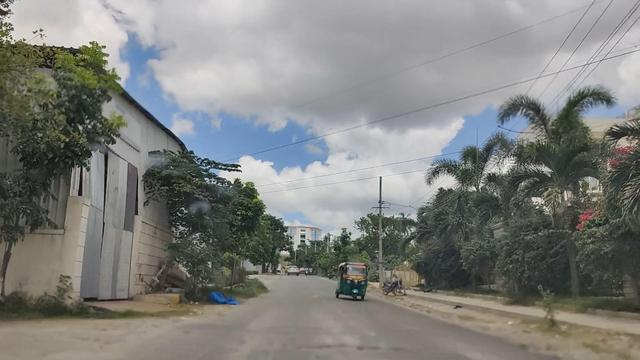RoadDamages: (283, 325, 407, 360)
